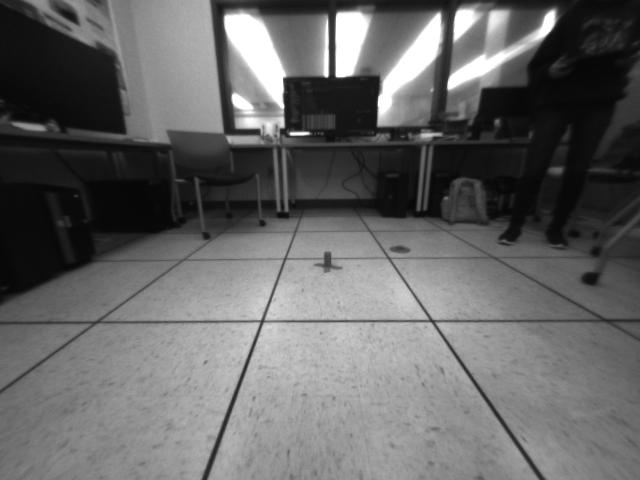X: (313, 251, 343, 273)
